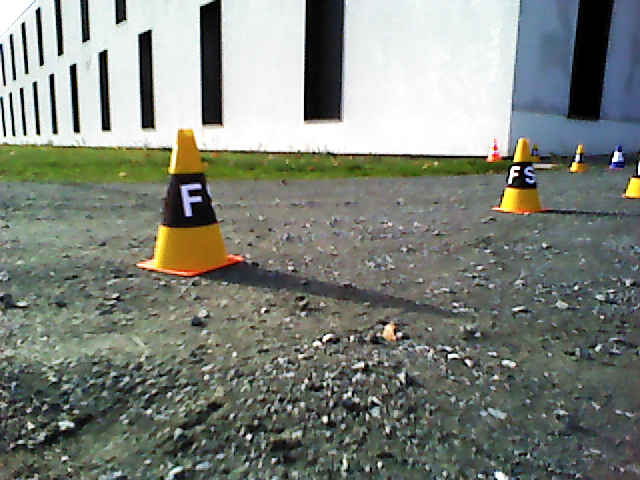bluecone: (154, 130, 223, 268), (501, 139, 540, 209), (610, 145, 625, 167)
yellowcone: (571, 145, 589, 170)
